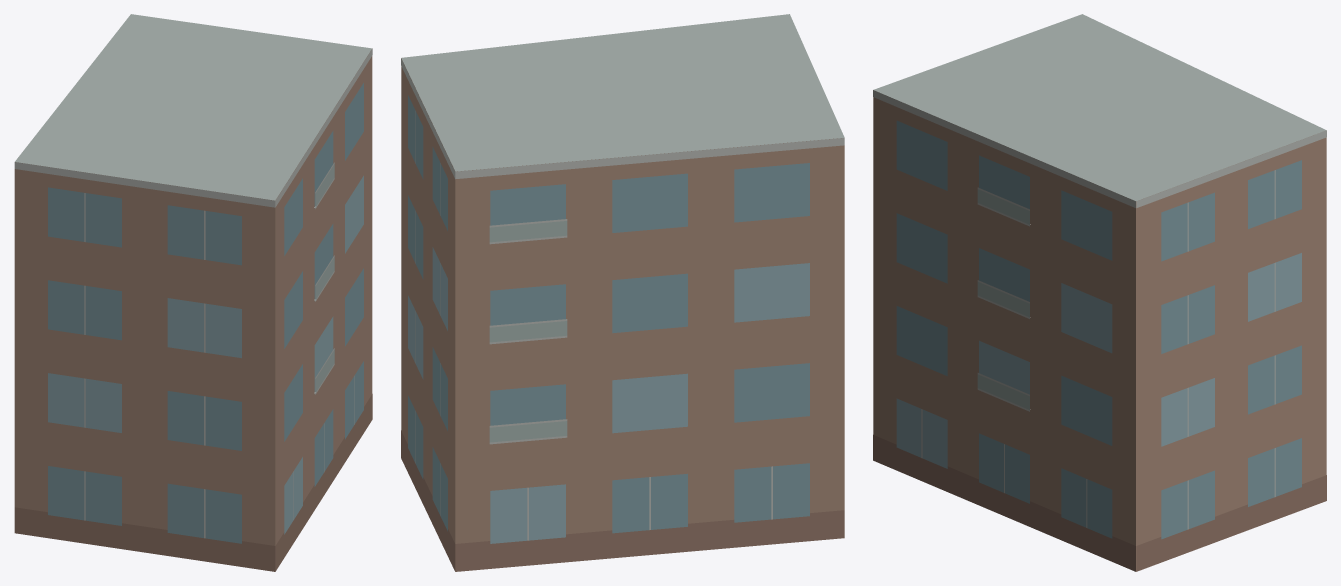
File: survey-upis-32628477.glb
3 views of the same model, side by side, from view 1: azimuth 30°, elevation 25°; view 2: azimuth 150°, elevation 25°; view 3: azimuth 270°, elevation 25° (orthographic). The views are drawn at different scales.
Visible parts, largest first — view 1: survey-upis-32628477.tmp; view 2: survey-upis-32628477.tmp; view 3: survey-upis-32628477.tmp.
Boxes of the visible parts, left/top/right/bottom form: survey-upis-32628477.tmp: left=14, top=14, right=372, bottom=571; survey-upis-32628477.tmp: left=401, top=14, right=844, bottom=571; survey-upis-32628477.tmp: left=873, top=14, right=1326, bottom=571.
Size of the model in its own units: 13.88 by 12.8 by 14.21.
